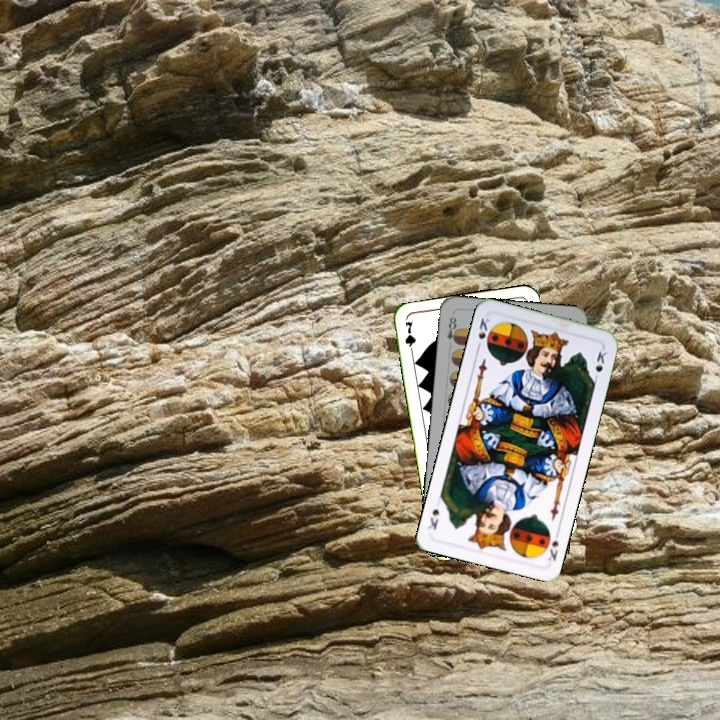E8: (443, 312, 461, 346)
G7: (401, 317, 418, 358)
SK: (473, 313, 493, 353), (544, 526, 561, 564)
